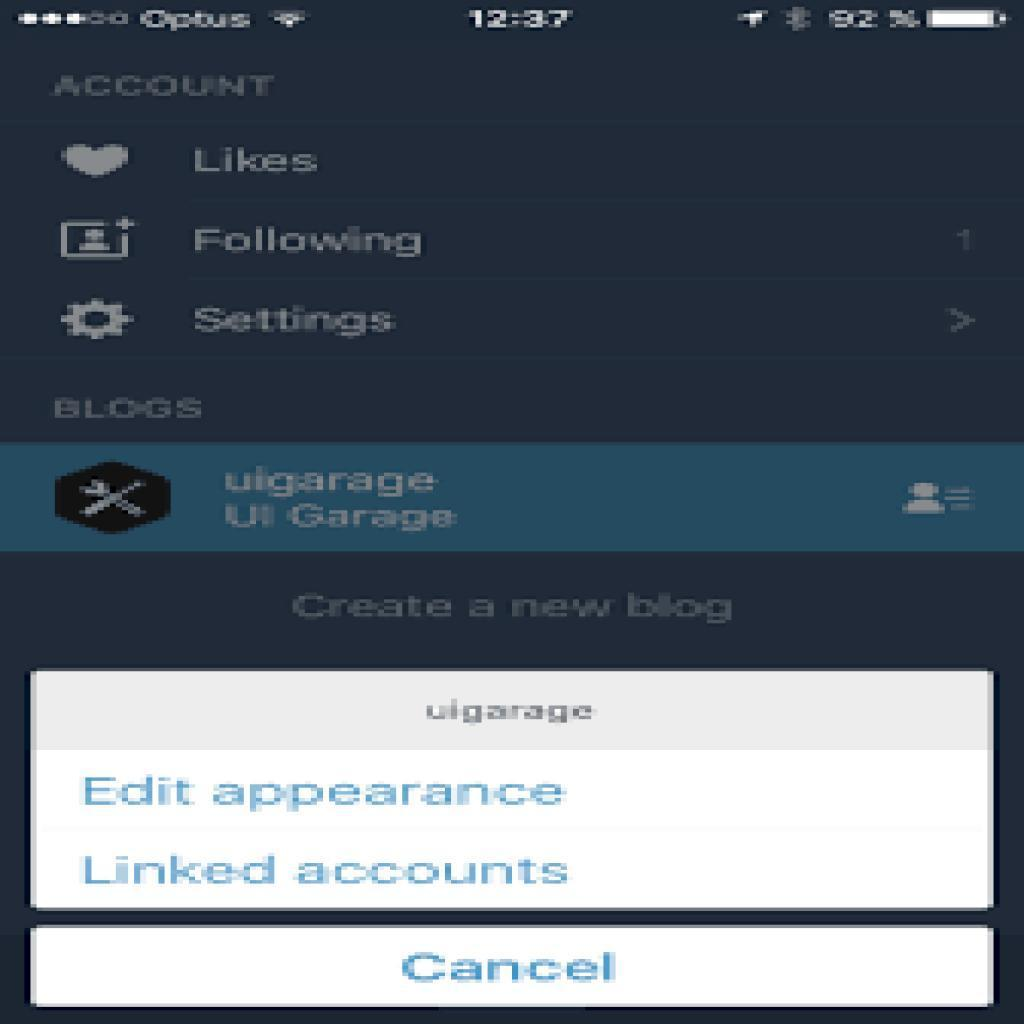button: (1, 442, 1024, 554), (32, 927, 994, 1009)
icon: (72, 468, 155, 530), (904, 472, 984, 533), (54, 214, 140, 266), (61, 134, 134, 185), (62, 301, 138, 345), (939, 301, 989, 347)
label: (81, 770, 570, 816), (78, 847, 574, 891), (189, 224, 434, 264), (188, 143, 329, 182)
